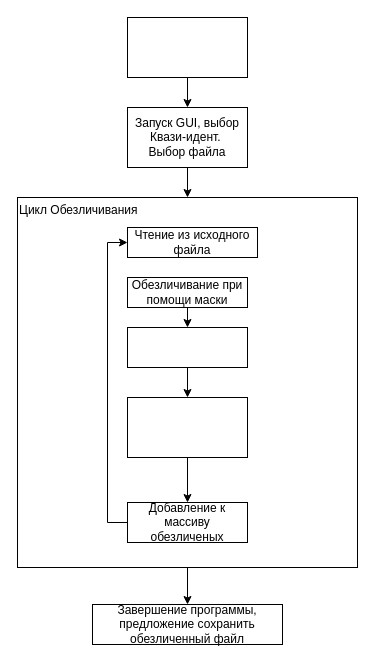
Image size: 375x663. Some labels were removed from this diagram. Here are the shapes that lost their labels. From the top down, the centre of each, then its label:
point (187, 47): Запуск программы
point (187, 347): Обезличивание псевдонимизацией
point (187, 427): Добавление в подпрограмму расчёта k-anonimity и KLD
